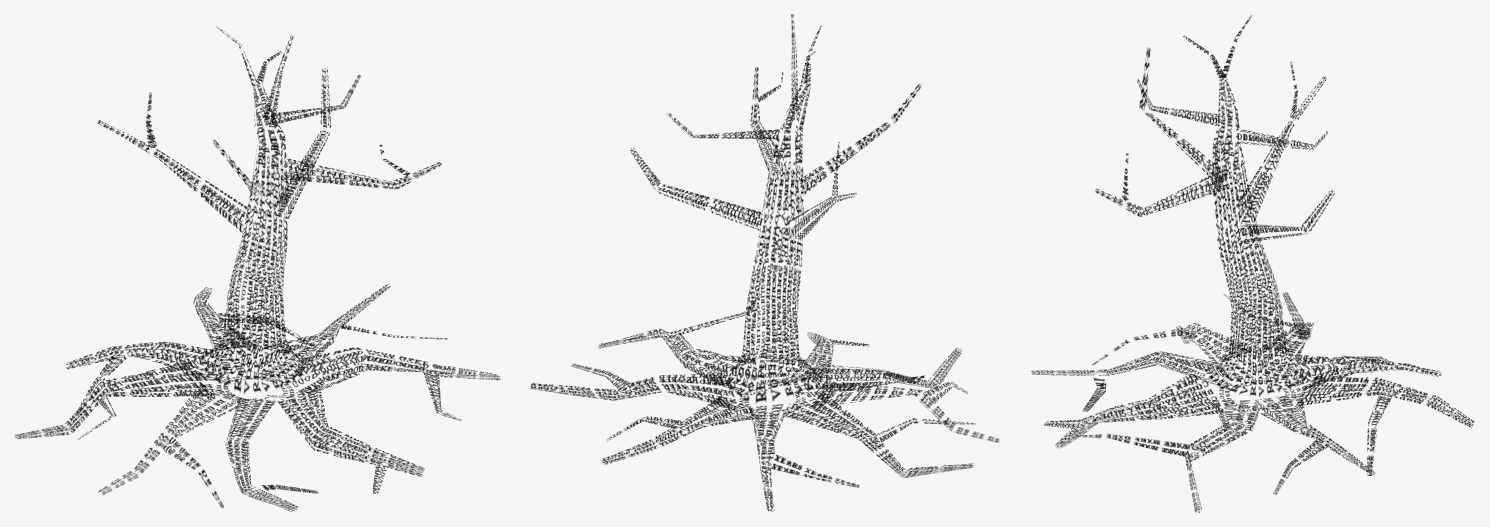
The model's file is democrattree.gltf.
3 views of the same model, side by side, from view 1: azimuth 30°, elevation 25°; view 2: azimuth 150°, elevation 25°; view 3: azimuth 270°, elevation 25° (orthographic). The views are drawn at different scales.
Parts seen in each view (by area): view 1: DemocratTree; view 2: DemocratTree; view 3: DemocratTree.
Boxes of the visible parts, x1,y1,x2,y2 form: DemocratTree: (15,26,500,511); DemocratTree: (530,14,999,511); DemocratTree: (1031,15,1474,512).
Bounding box in the file's own units: 38.74 × 34.42 × 35.66.
Materials: 1 (1 with a texture image).
